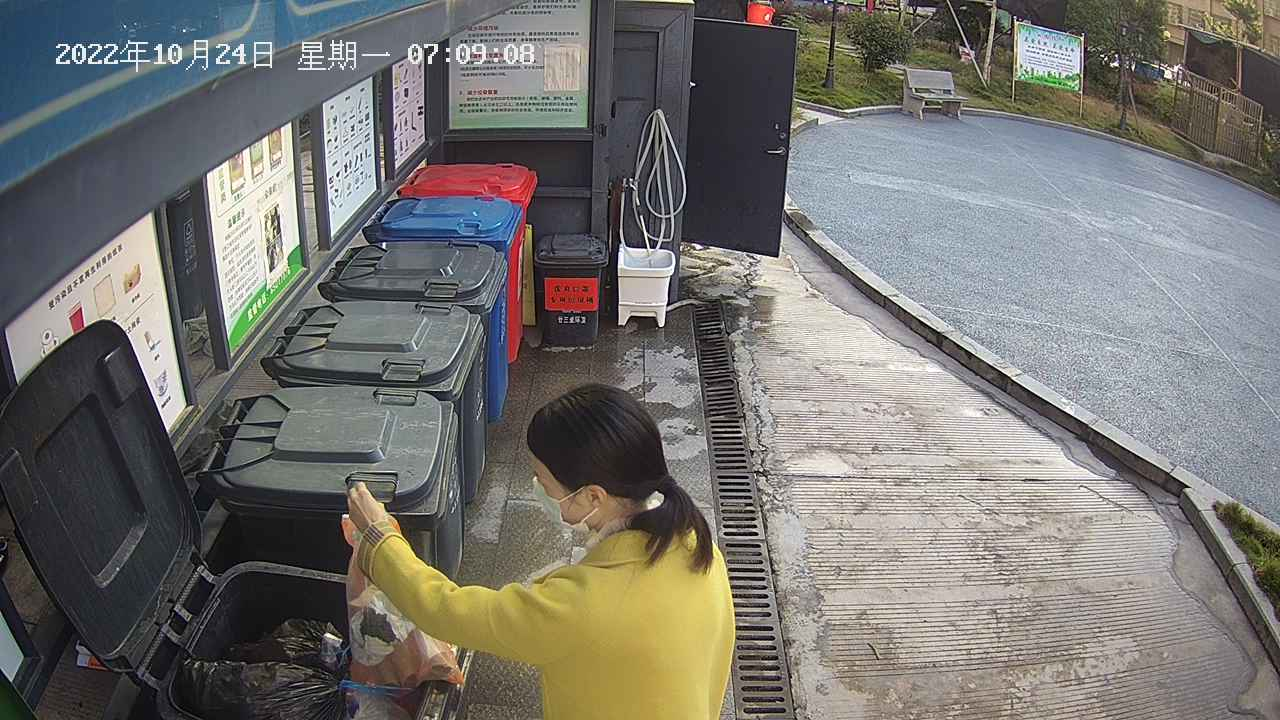worker: (341, 378, 745, 720)
